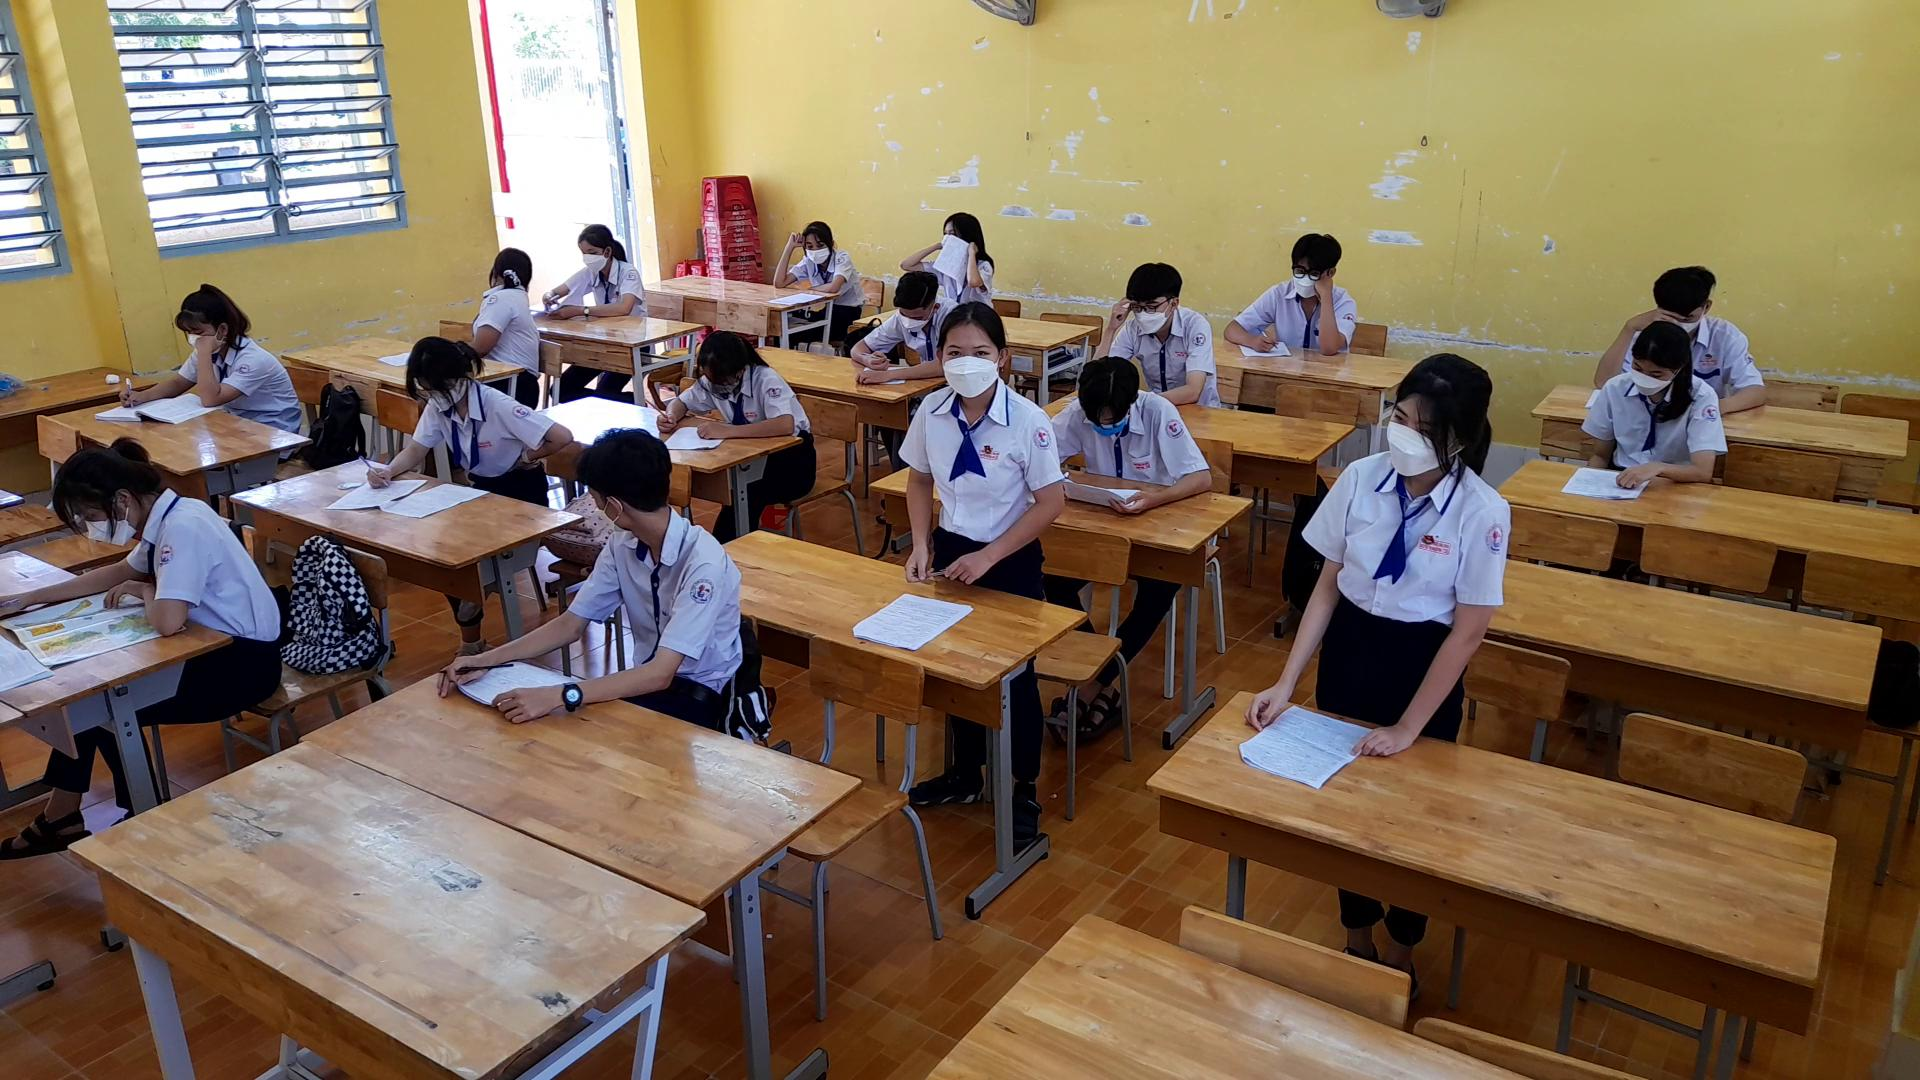Hand Under Table: (1575, 368, 1629, 479)
Look Around: (549, 415, 688, 549), (465, 225, 545, 298)
Normal: (1044, 345, 1222, 514), (653, 322, 806, 438), (549, 222, 655, 324)
Stand Up: (1238, 339, 1509, 764), (889, 290, 1073, 603)
Wave: (498, 386, 574, 473), (186, 327, 260, 411), (1307, 265, 1356, 363), (895, 203, 948, 278), (1088, 277, 1135, 353), (765, 222, 807, 299), (963, 231, 1000, 293)
